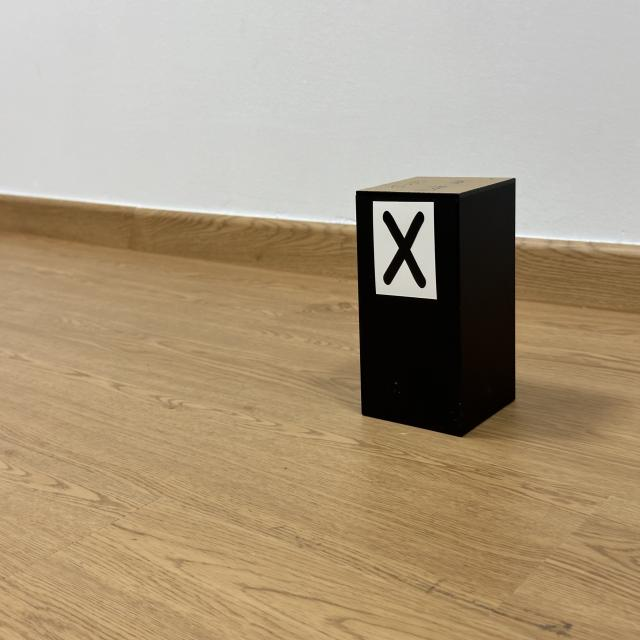X: (382, 212, 425, 288)
